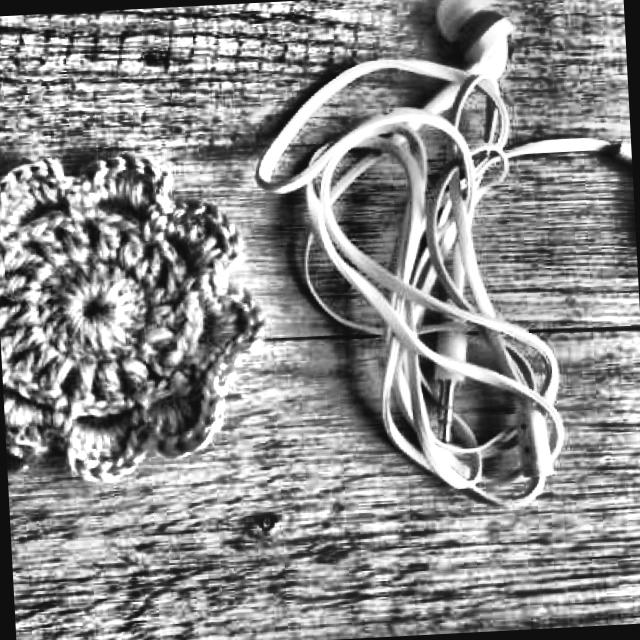Cable: (247, 0, 640, 519)
